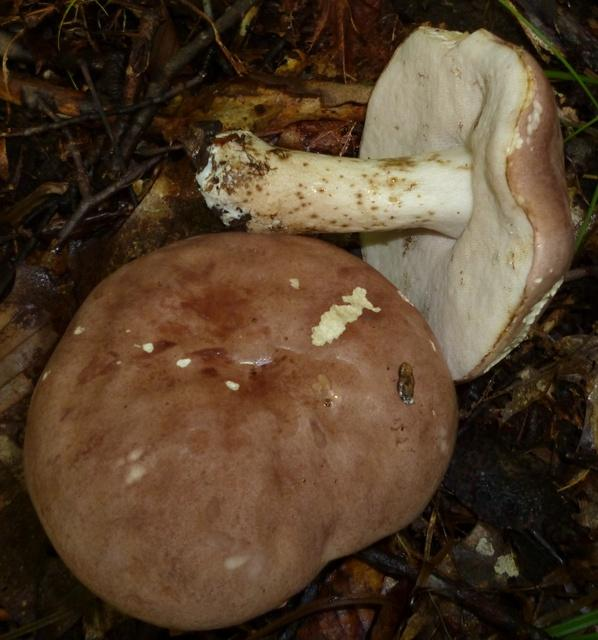Non-edible Mushroom: (21, 229, 460, 631), (191, 23, 576, 383)
